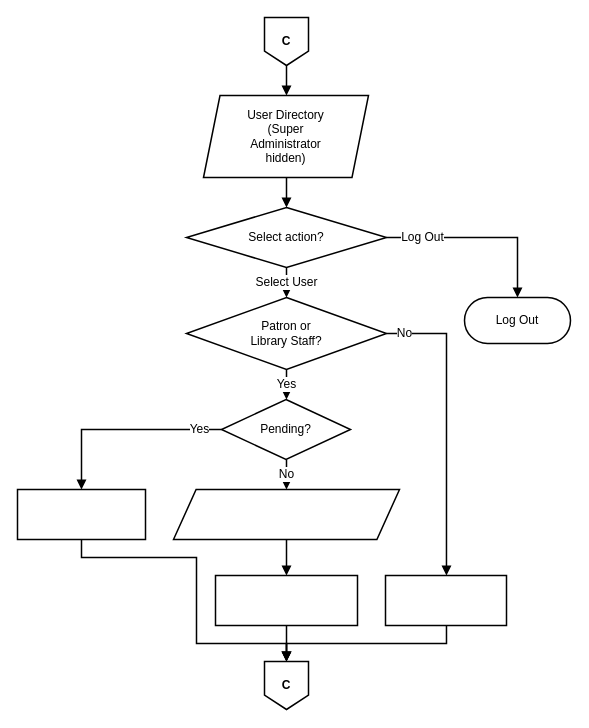
Some shapes in this 589 by 728 pixel diagram are drawn without their labels. The shapes that lost their labels are listed below. From the top down, each one's box as (x1, y1, x2, y2) in pixels, then its label:
(16, 488, 146, 540): Verify ID & approve account
(172, 488, 400, 540): Edit details or Active/Pending/Inactive
(214, 574, 358, 626): Save, sync card & log audit
(384, 574, 507, 626): View Librarian read-only
